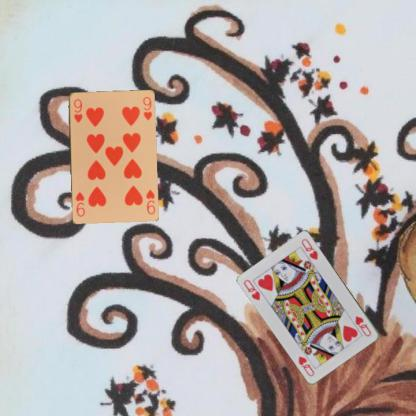9h: (143, 187, 156, 216), (71, 96, 83, 124)
Qh: (241, 276, 262, 301), (352, 313, 372, 338)
